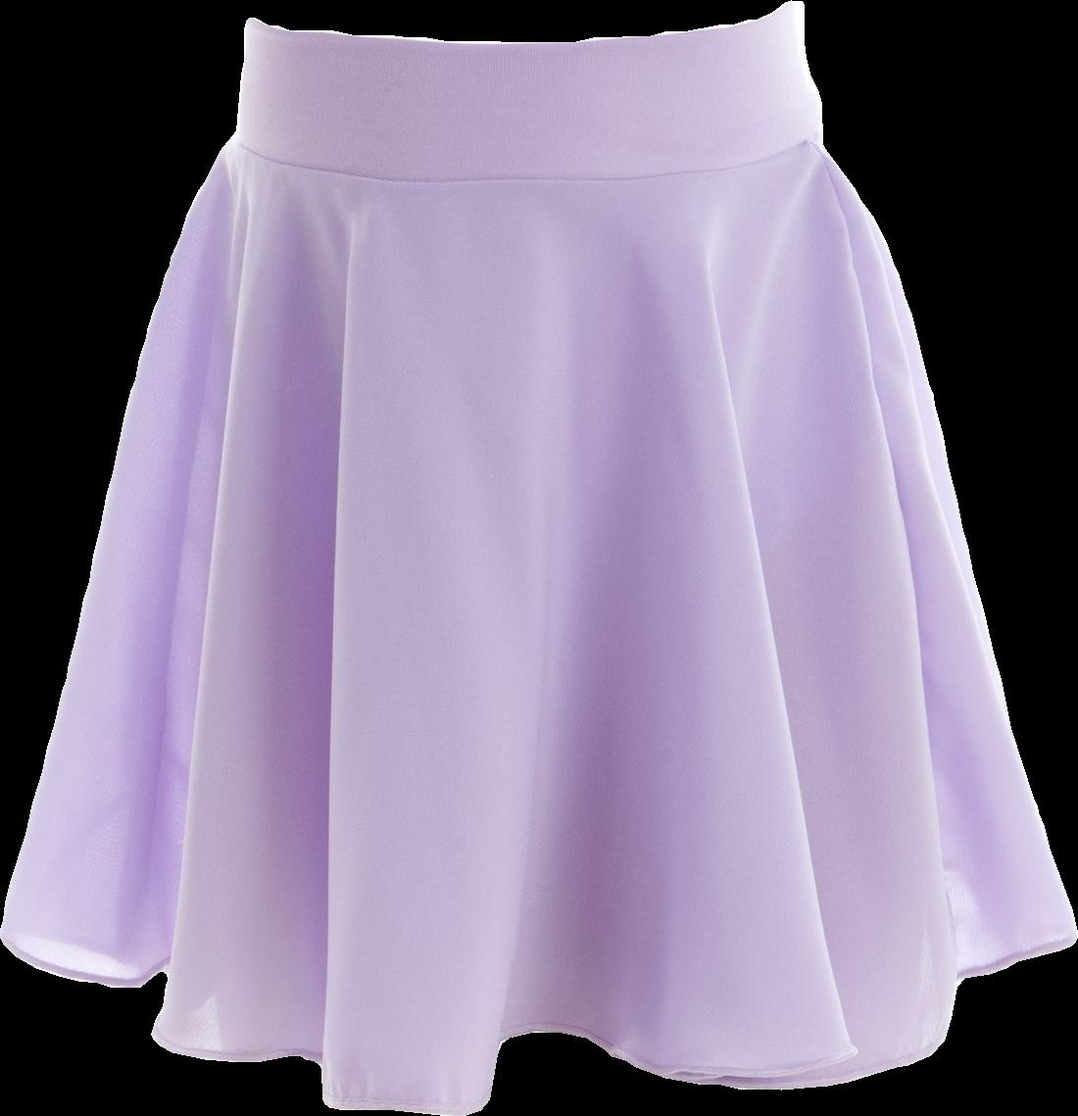Hemline: (0, 932, 1077, 1115)
Waistline: (223, 125, 827, 187), (242, 0, 802, 50)
